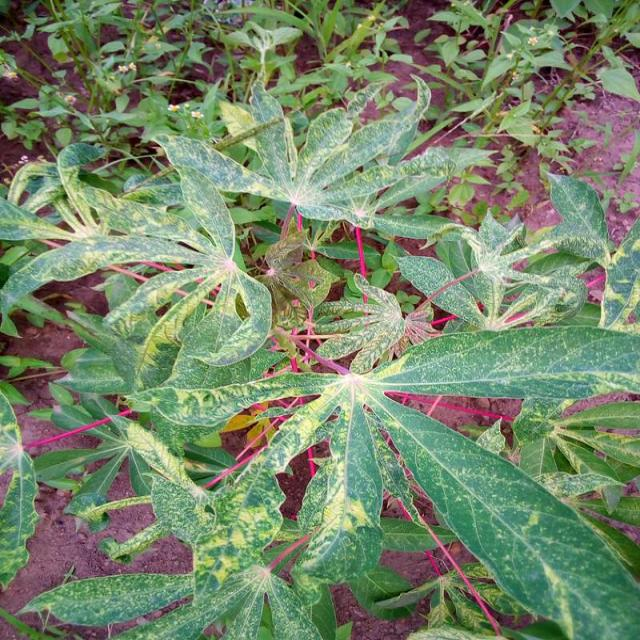cassava leaf: (1, 72, 638, 638), (366, 386, 638, 638)
